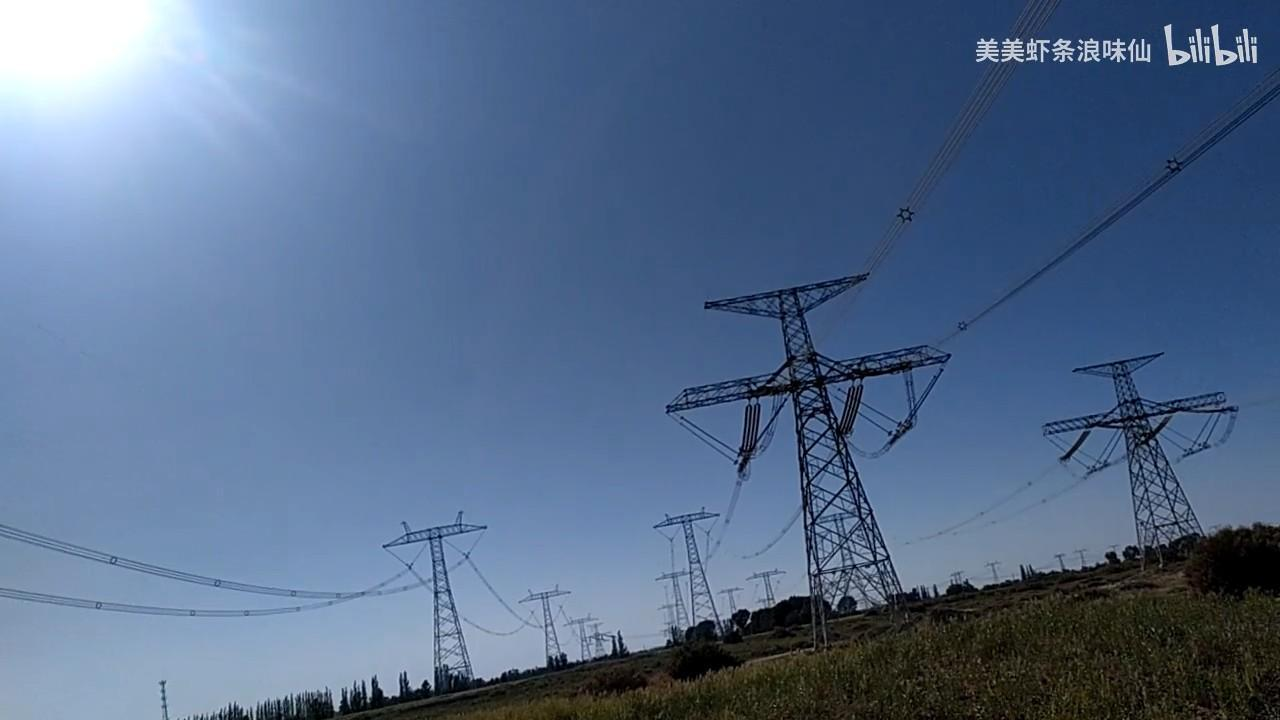power_tower: (653, 251, 935, 626), (1045, 352, 1229, 556), (385, 505, 499, 689), (656, 504, 736, 623), (520, 579, 596, 665), (738, 559, 796, 612), (552, 602, 600, 662), (655, 563, 693, 619)
